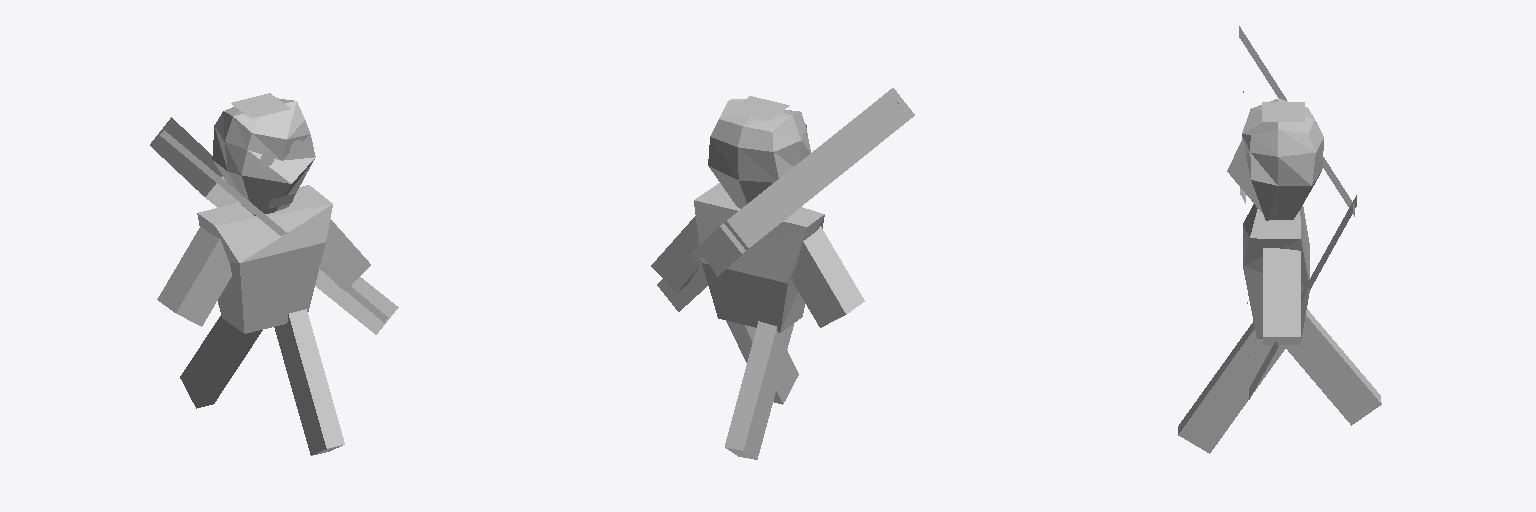
File: heavyarcher3.obj
3 renders of one model, left to right at view 1: azimuth 30°, elevation 25°; view 2: azimuth 150°, elevation 25°; view 3: azimuth 270°, elevation 25°, orthographic.
Parts seen in each view (by area): view 1: Cube.001, Cube, Cube.005, Cube.003, Cube.004, Plane.001_Plane.002, Plane.002_Plane.003, Plane.003_Plane.004, Cube.002, Plane.004_Plane.001; view 2: Cube.001, Plane.002_Plane.003, Cube, Cube.004, Cube.003, Plane.001_Plane.002, Cube.002, Cube.005, Plane.004_Plane.001; view 3: Cube, Cube.005, Cube.004, Cube.001, Cube.002, Plane.001_Plane.002, Plane.002_Plane.003, Plane.004_Plane.001.
Boxes of the visible parts, box(x1,y1,x2,y2) form: Cube.001: box(197, 185, 332, 333); Cube: box(212, 98, 315, 215); Cube.005: box(274, 309, 344, 455); Cube.003: box(157, 226, 231, 326); Cube.004: box(180, 315, 262, 408); Plane.001_Plane.002: box(199, 176, 398, 334); Plane.002_Plane.003: box(150, 117, 222, 196); Plane.003_Plane.004: box(160, 130, 387, 322); Cube.002: box(321, 219, 370, 290); Plane.004_Plane.001: box(231, 93, 290, 118); Cube.001: box(694, 183, 824, 332); Plane.002_Plane.003: box(720, 88, 914, 253); Cube: box(708, 99, 810, 208); Cube.004: box(725, 321, 793, 459); Cube.003: box(792, 226, 864, 327); Plane.001_Plane.002: box(657, 221, 748, 311); Cube.002: box(651, 216, 699, 292); Cube.005: box(726, 320, 798, 404); Plane.004_Plane.001: box(729, 96, 789, 120); Cube: box(1227, 99, 1323, 220); Cube.005: box(1178, 321, 1287, 453); Cube.004: box(1286, 309, 1381, 425); Cube.001: box(1243, 204, 1309, 338); Cube.002: box(1263, 248, 1300, 344); Plane.001_Plane.002: box(1249, 195, 1356, 399); Plane.002_Plane.003: box(1239, 26, 1354, 216); Plane.004_Plane.001: box(1262, 102, 1304, 121).
Bounding box in the file's own units: 4.75 × 6.4 × 3.3.